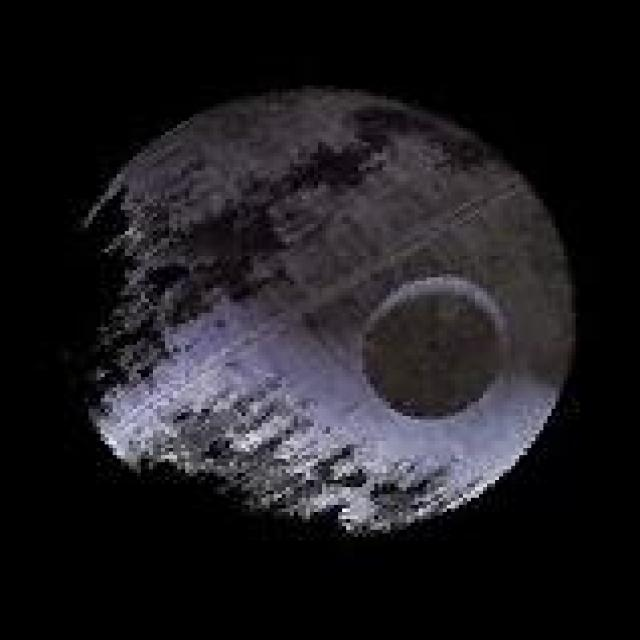Death Star: (69, 78, 584, 540)
